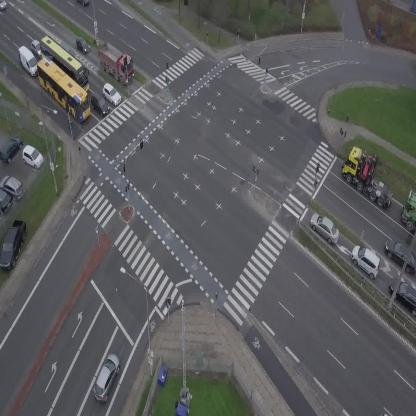bus: (29, 54, 100, 124), (32, 34, 98, 93)
car: (90, 352, 124, 403), (345, 242, 386, 280), (305, 209, 345, 246), (98, 81, 124, 107), (87, 91, 112, 118), (71, 35, 93, 57), (60, 41, 77, 56), (31, 40, 39, 57), (76, 0, 89, 5)
lorry: (333, 142, 409, 211), (88, 37, 142, 88), (12, 43, 43, 80), (402, 192, 416, 231)
